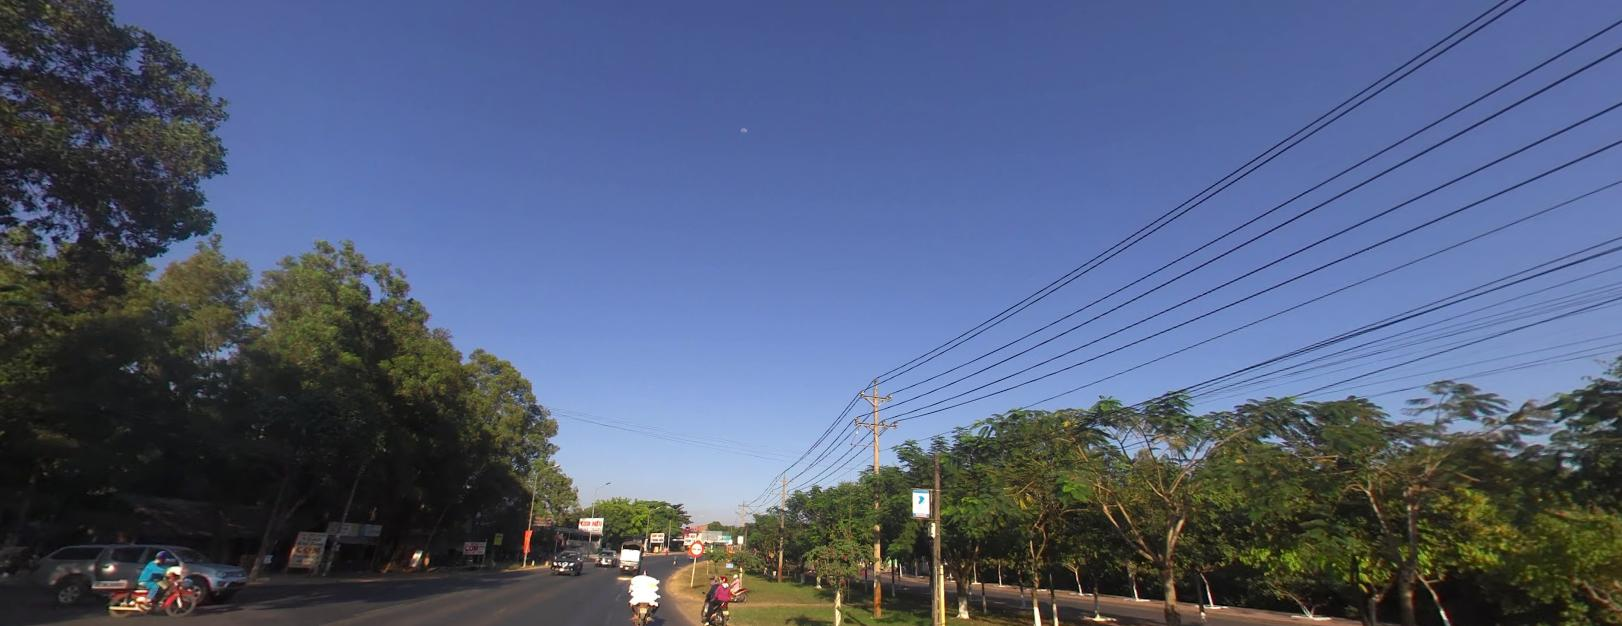Cam con lai: (689, 540, 703, 556)
